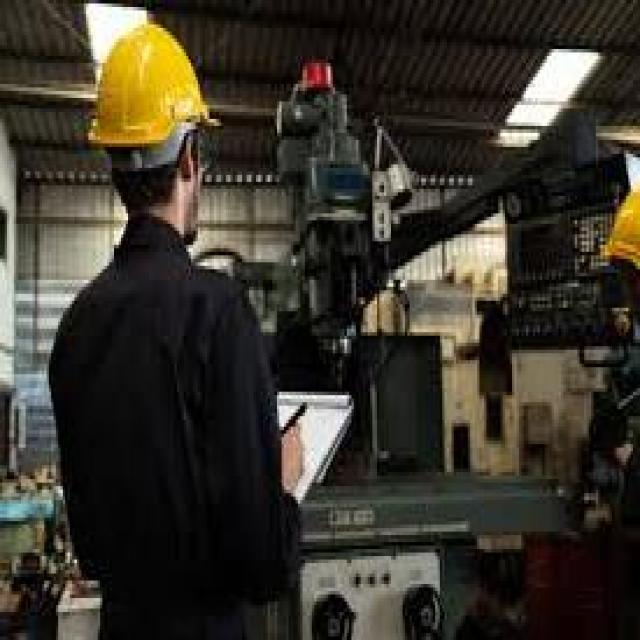Safety-Helmet: (79, 17, 228, 182), (593, 150, 640, 318)
